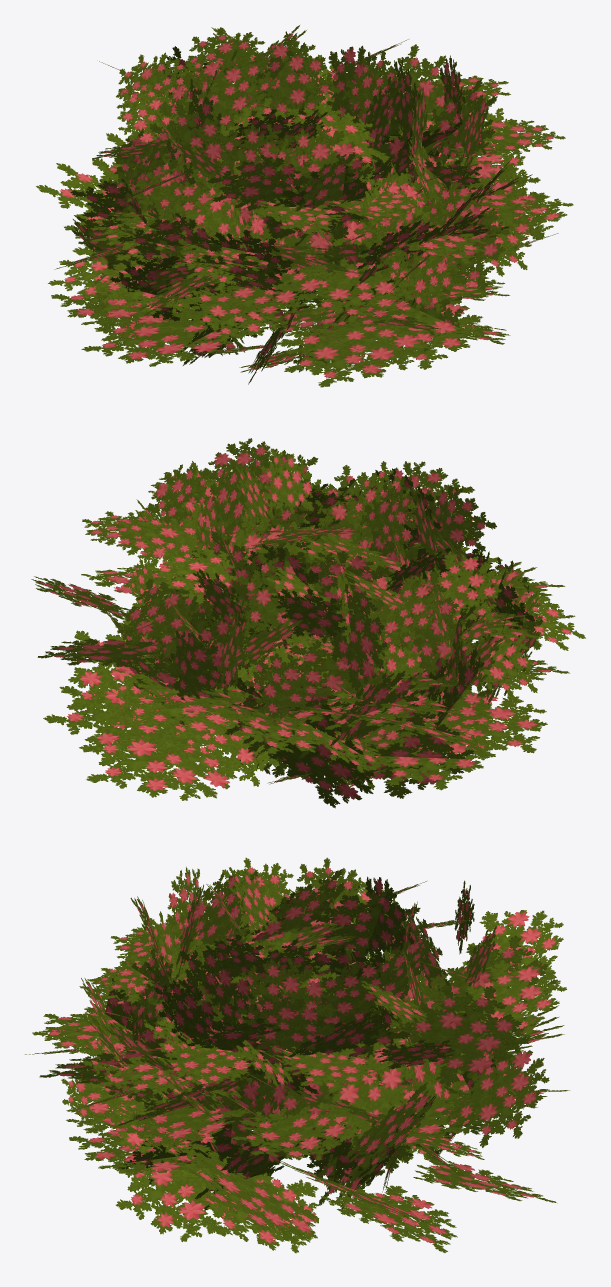
The model's file is GreenBloomyBushLeaves.fbx.
3 views of the same model, one above another, from view 1: azimuth 30°, elevation 25°; view 2: azimuth 150°, elevation 25°; view 3: azimuth 270°, elevation 25° (orthographic). The views are drawn at different scales.
Parts seen in each view (by area): view 1: GreenBloomyBushLeaves_LOD0; view 2: GreenBloomyBushLeaves_LOD0; view 3: GreenBloomyBushLeaves_LOD0.
Boxes of the visible parts, x1,y1,x2,y2 form: GreenBloomyBushLeaves_LOD0: [36, 25, 573, 387]; GreenBloomyBushLeaves_LOD0: [31, 438, 585, 808]; GreenBloomyBushLeaves_LOD0: [25, 857, 569, 1253].
Size of what is drawn, in the model's own units: 118 by 66.68 by 114.
